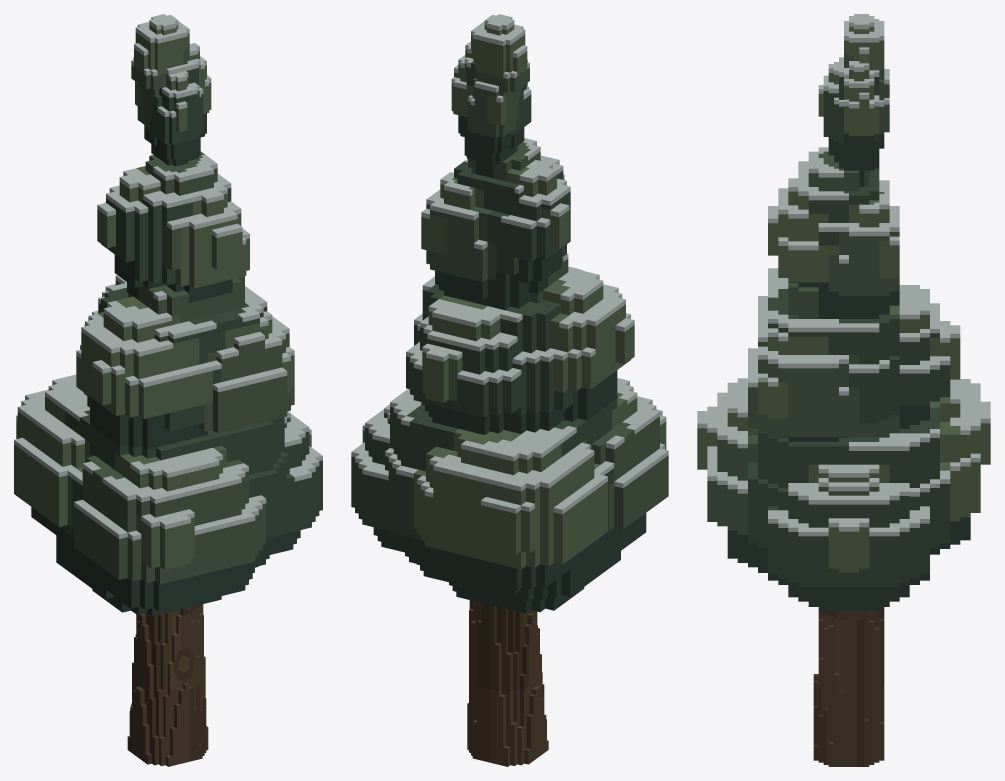
Rendered from pine_mature_winter.glb.
3 views of the same model, side by side, from view 1: azimuth 30°, elevation 25°; view 2: azimuth 150°, elevation 25°; view 3: azimuth 270°, elevation 25° (orthographic).
Parts seen in each view (by area): view 1: VoxelVisual; view 2: VoxelVisual; view 3: VoxelVisual.
Boxes of the visible parts, bbox=[...] form: VoxelVisual: bbox=[14, 14, 322, 766]; VoxelVisual: bbox=[351, 14, 668, 766]; VoxelVisual: bbox=[697, 14, 990, 766].
Size of what is drawn, in the model's own units: 7 by 20 by 7.25.
